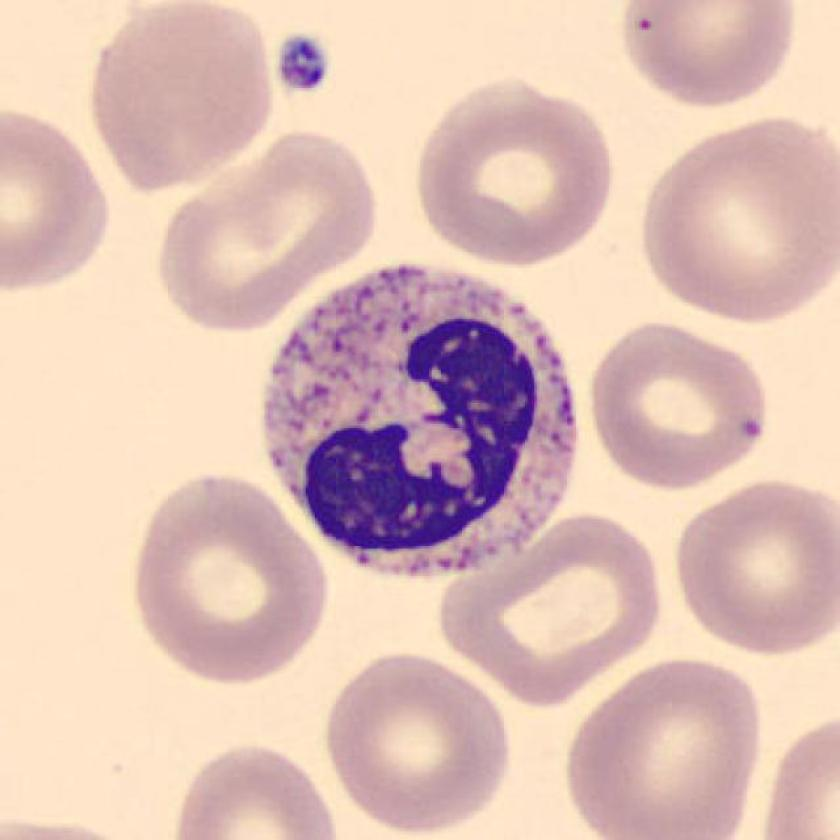neutrophil: (261, 265, 576, 580)
